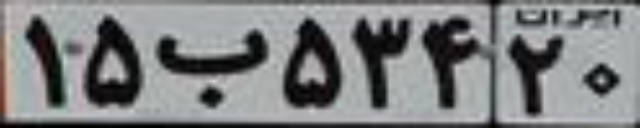0: (576, 60, 625, 97)
1: (21, 14, 65, 107)
2: (508, 33, 568, 113)
3: (350, 17, 411, 109)
4: (420, 17, 491, 110)
5: (76, 13, 145, 107), (282, 18, 343, 107)
be: (153, 26, 269, 108)
